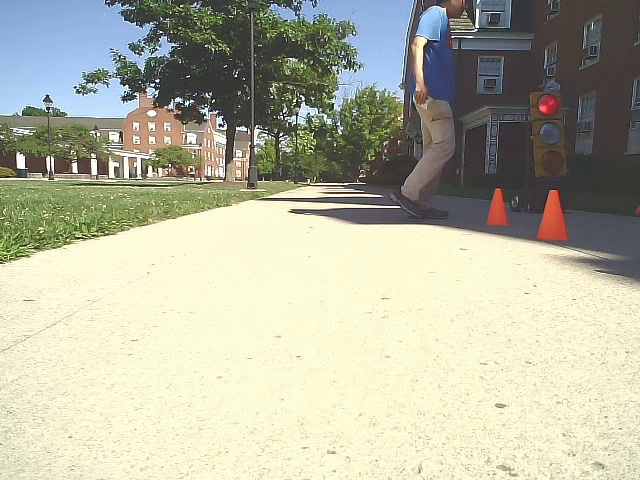red: (528, 89, 572, 176)
